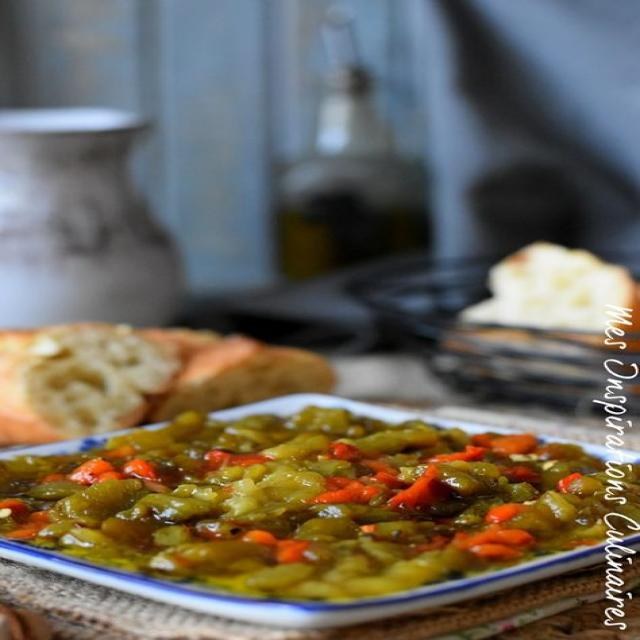Salade mechweya: (0, 359, 635, 632)
